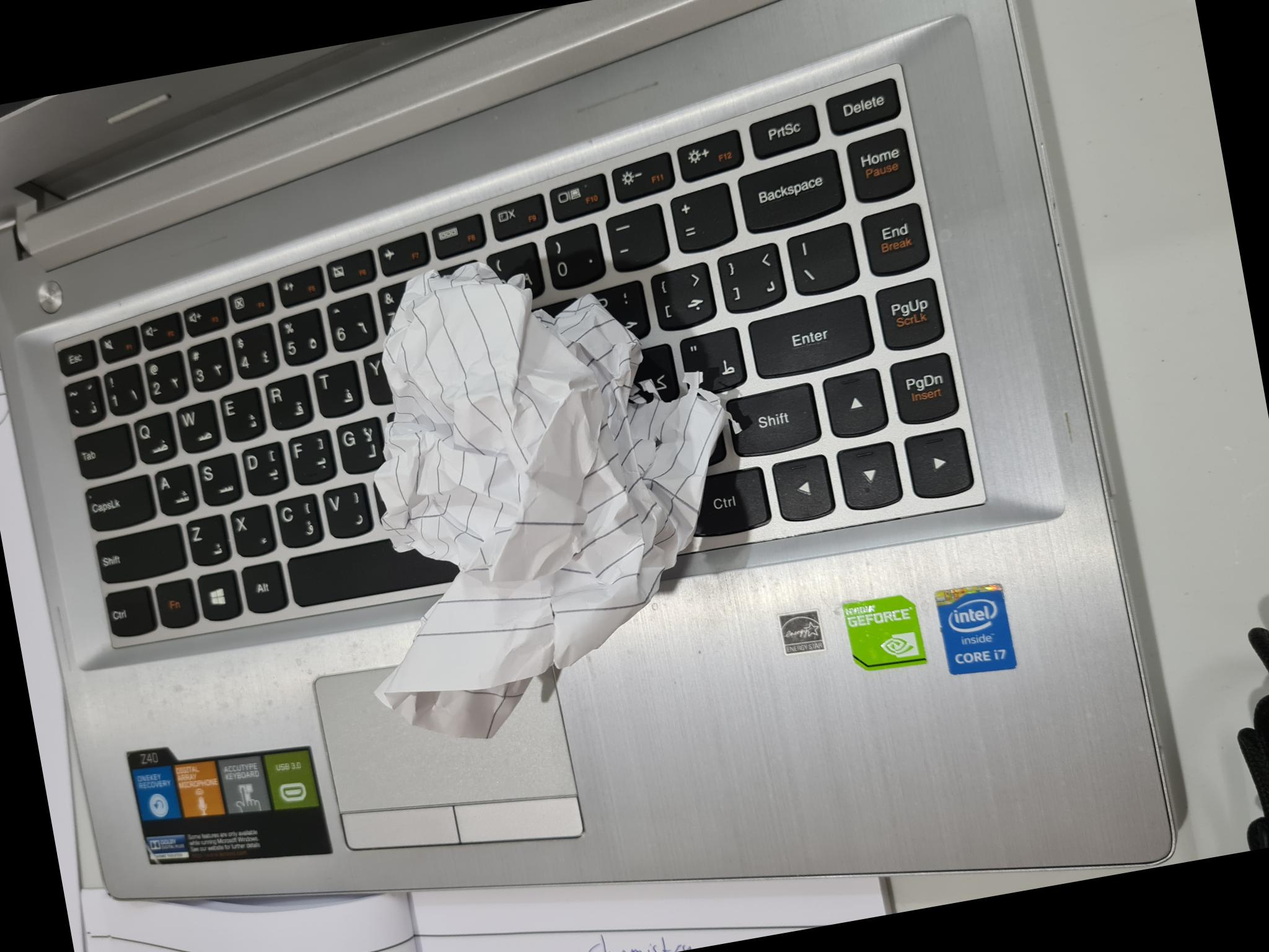Kertas: (261, 350, 778, 778), (244, 400, 718, 753)
